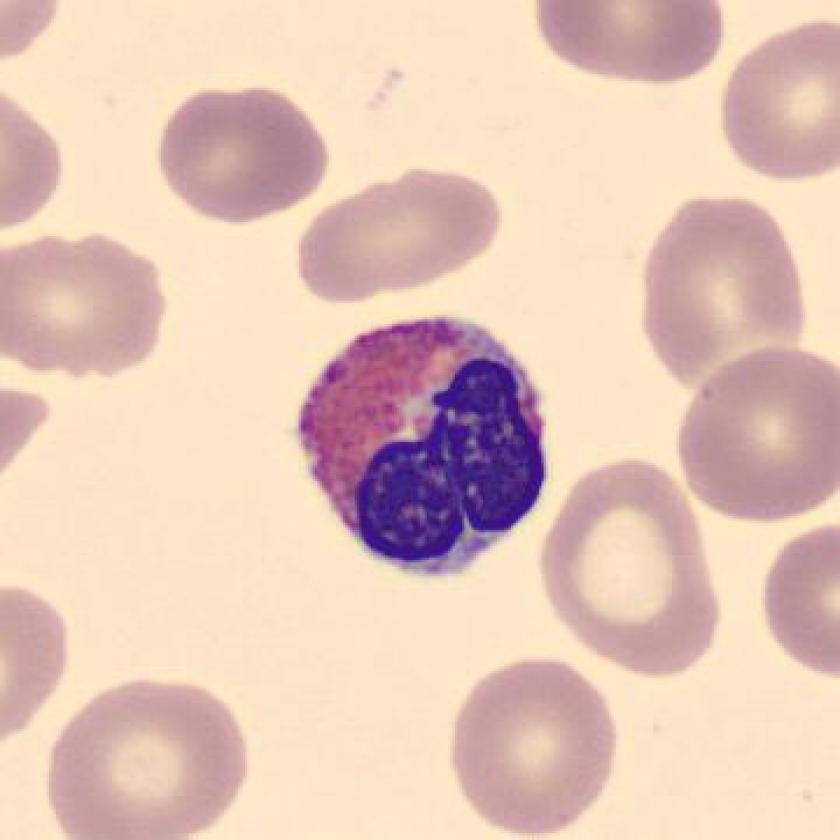eosinophil: (281, 304, 561, 594)
